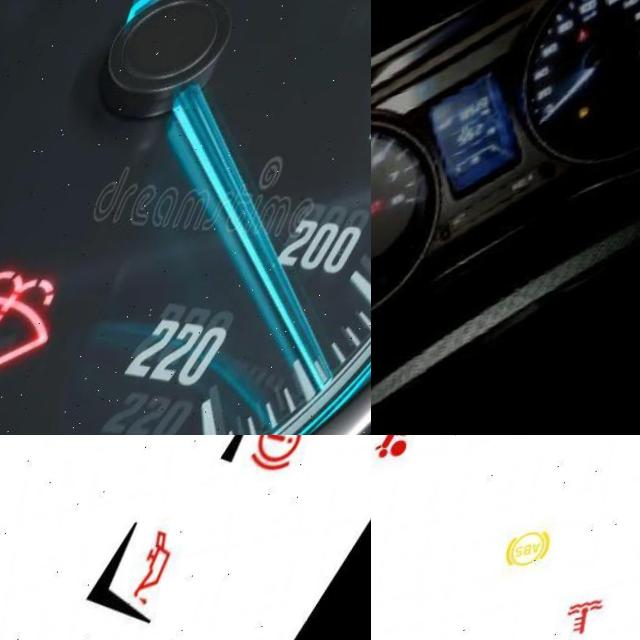Low fuel level: (579, 130, 594, 147)
Washer Fluid: (0, 266, 73, 386)
